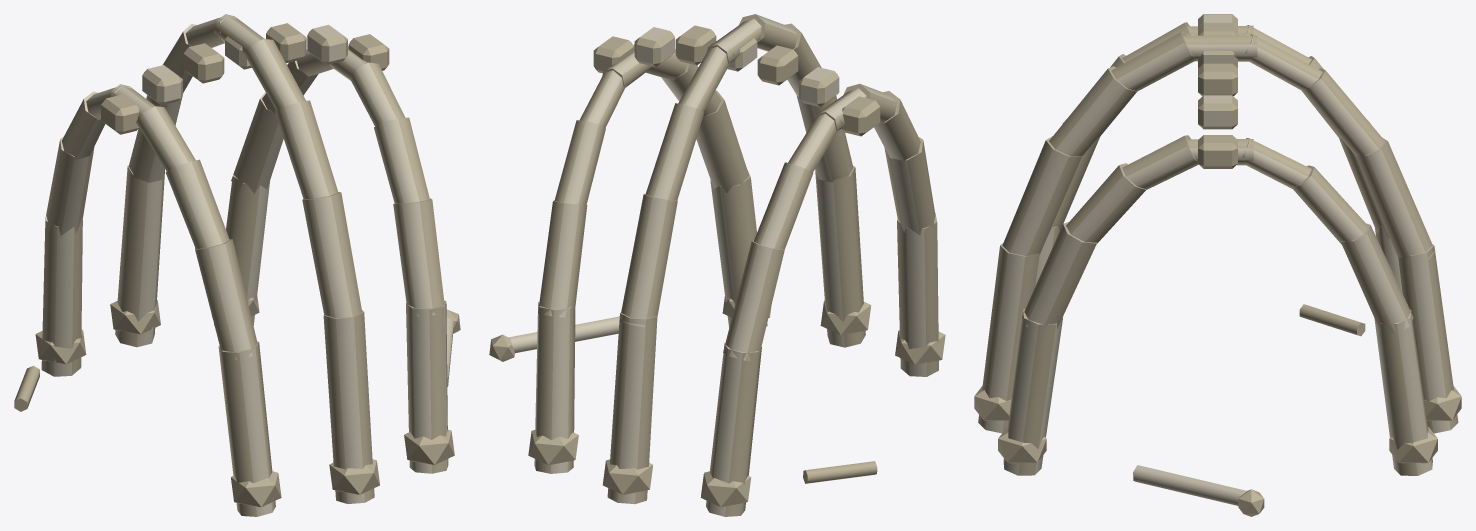
File: bones.glb
3 views of the same model, side by side, from view 1: azimuth 30°, elevation 25°; view 2: azimuth 150°, elevation 25°; view 3: azimuth 270°, elevation 25° (orthographic).
Visible parts, largest first — view 1: Body; view 2: Body; view 3: Body.
Part boxes in pixels (x1,y1,x2,y2): Body: (14, 14, 460, 516); Body: (489, 14, 945, 516); Body: (974, 14, 1461, 516).
Size of the model in its own units: 5.05 by 4.56 by 5.11.
